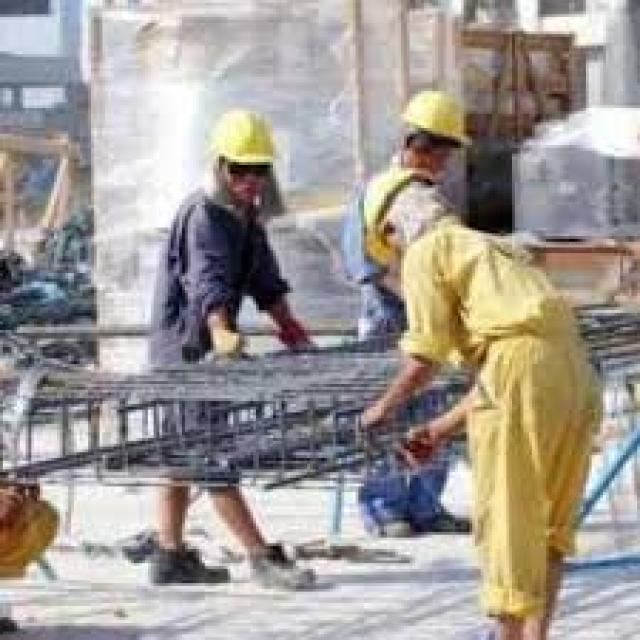Reflective-Jacket: (336, 162, 455, 290)
Safety-Helmet: (190, 97, 296, 185), (381, 77, 489, 162)
